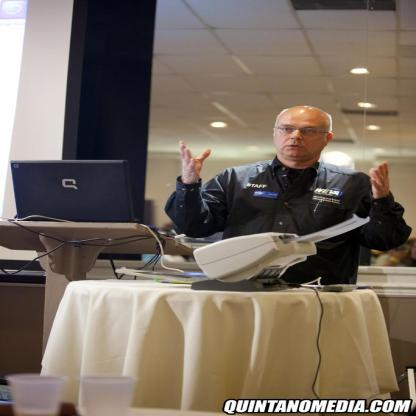board: (9, 158, 164, 242)
